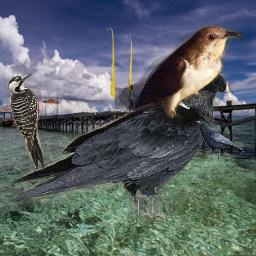Crow: (6, 65, 235, 228), (196, 121, 244, 161)
Cuckoo: (115, 25, 243, 119)
Woodpecker: (8, 73, 45, 171)
